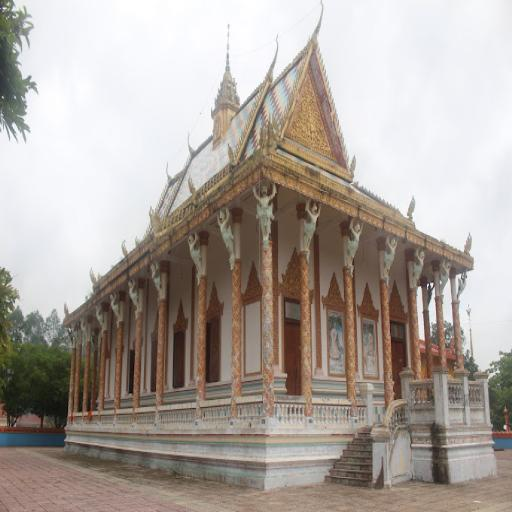lua: (264, 28, 282, 79), (308, 0, 327, 37), (183, 127, 196, 161), (162, 158, 172, 190)
ran: (261, 114, 281, 160), (403, 188, 417, 226), (460, 226, 475, 261), (149, 204, 163, 235), (346, 150, 360, 179), (224, 138, 240, 161), (186, 173, 197, 197), (118, 238, 128, 264), (88, 264, 99, 285), (61, 300, 72, 318)
than: (251, 183, 283, 255), (212, 205, 244, 267), (300, 194, 326, 262), (341, 213, 366, 274), (379, 229, 402, 283), (122, 272, 144, 326), (432, 252, 453, 300), (408, 240, 429, 288), (186, 230, 205, 282), (147, 256, 164, 307), (454, 261, 472, 302), (107, 288, 123, 332), (95, 300, 109, 344), (67, 319, 81, 352), (80, 309, 91, 348)
